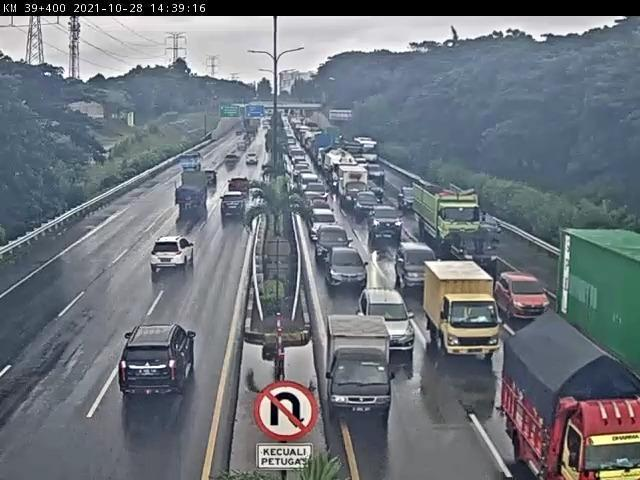car: (117, 326, 195, 397), (360, 290, 420, 357), (494, 265, 557, 325), (321, 248, 375, 291), (396, 242, 440, 293), (315, 228, 357, 271), (151, 236, 196, 271), (369, 206, 403, 242), (309, 210, 339, 241), (220, 194, 247, 221), (228, 177, 251, 195)
truck: (503, 321, 640, 480), (421, 259, 506, 364), (323, 312, 400, 423), (409, 178, 486, 249), (174, 170, 208, 210)
